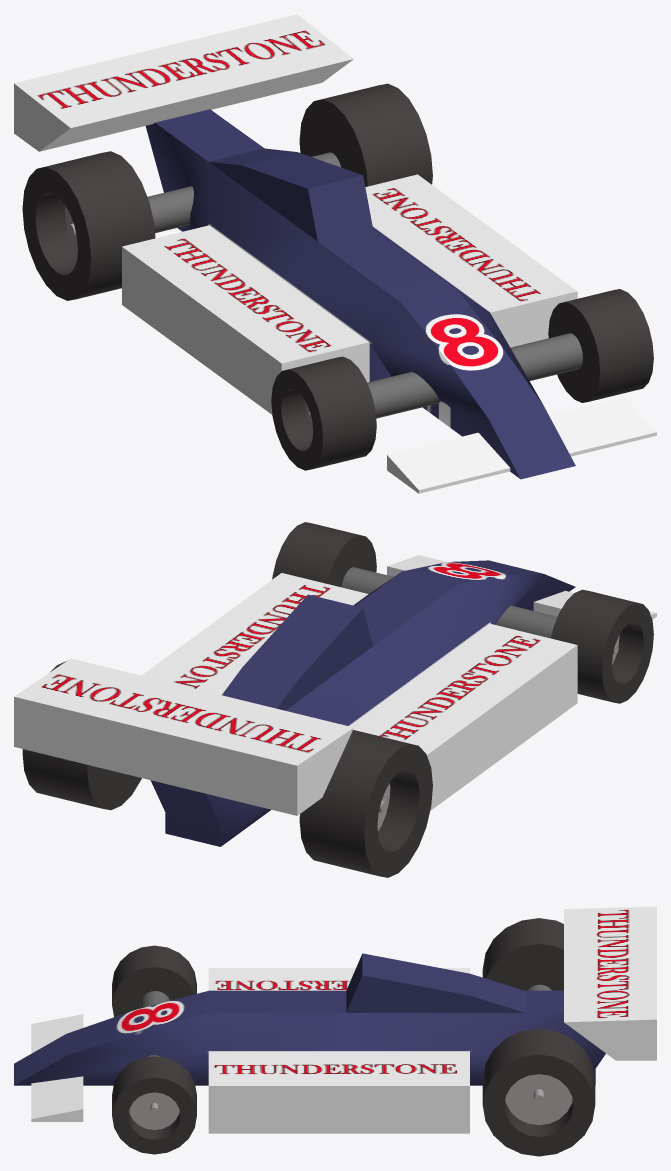
The model's file is lotus_78_export.fbx.
3 renders of one model, top to bottom at view 1: azimuth 30°, elevation 25°; view 2: azimuth 150°, elevation 25°; view 3: azimuth 270°, elevation 25°, orthographic. The views are drawn at different scales.
Parts seen in each view (by area): view 1: pCube1, pCube3, left_back_wheel7, left_back_wheel6, left_back_wheel5, pCube2, left_back_wheel4, pCylinder13, pCylinder16; view 2: pCube1, pCube3, left_back_wheel7, left_back_wheel5, left_back_wheel4, left_back_wheel6, pCylinder13, pCube2; view 3: pCube1, pCube3, left_back_wheel6, left_back_wheel4, left_back_wheel7, left_back_wheel5, pCube2.
Part boxes in pixels (left/top/right/bottom): pCube1: left=122, top=109, right=577, bottom=479; pCube3: left=14, top=14, right=353, bottom=151; left_back_wheel7: left=22, top=151, right=155, bottom=300; left_back_wheel6: left=299, top=83, right=432, bottom=186; left_back_wheel5: left=271, top=356, right=376, bottom=470; pCube2: left=387, top=397, right=656, bottom=493; left_back_wheel4: left=548, top=289, right=653, bottom=402; pCylinder13: left=367, top=333, right=582, bottom=418; pCylinder16: left=147, top=152, right=341, bottom=233; pCube1: left=141, top=560, right=577, bottom=846; pCube3: left=14, top=658, right=353, bottom=815; left_back_wheel7: left=299, top=730, right=432, bottom=877; left_back_wheel5: left=551, top=589, right=653, bottom=703; left_back_wheel4: left=272, top=522, right=376, bottom=587; left_back_wheel6: left=22, top=661, right=141, bottom=810; pCylinder13: left=341, top=567, right=557, bottom=638; pCube2: left=387, top=555, right=656, bottom=619; pCube1: left=14, top=953, right=605, bottom=1133; pCube3: left=564, top=906, right=656, bottom=1060; left_back_wheel6: left=482, top=1028, right=595, bottom=1156; left_back_wheel4: left=112, top=1056, right=196, bottom=1154; left_back_wheel7: left=482, top=918, right=563, bottom=990; left_back_wheel5: left=112, top=945, right=196, bottom=1016; pCube2: left=31, top=1014, right=83, bottom=1121.
Bounding box in the file's own units: 6.2 × 2.66 × 12.34.
